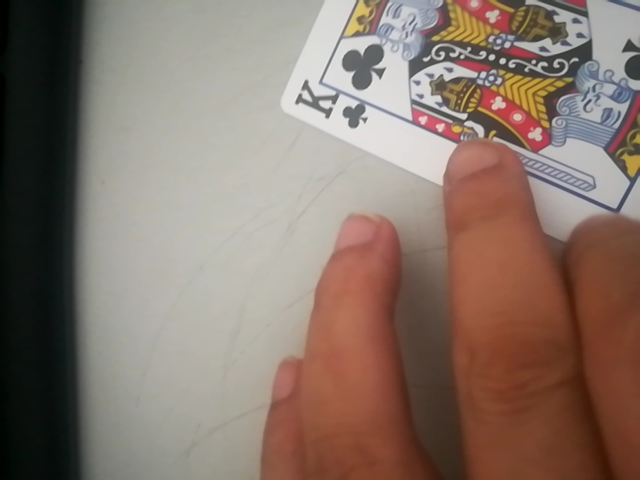mh k: (279, 0, 640, 245)
